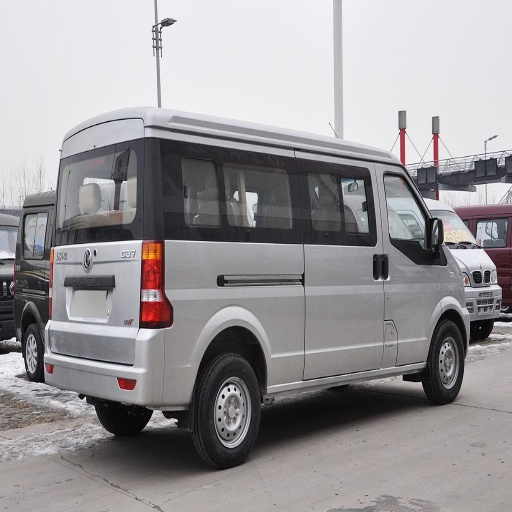back_bumper: (52, 329, 170, 404)
trunk: (148, 244, 370, 403), (12, 242, 148, 362)
